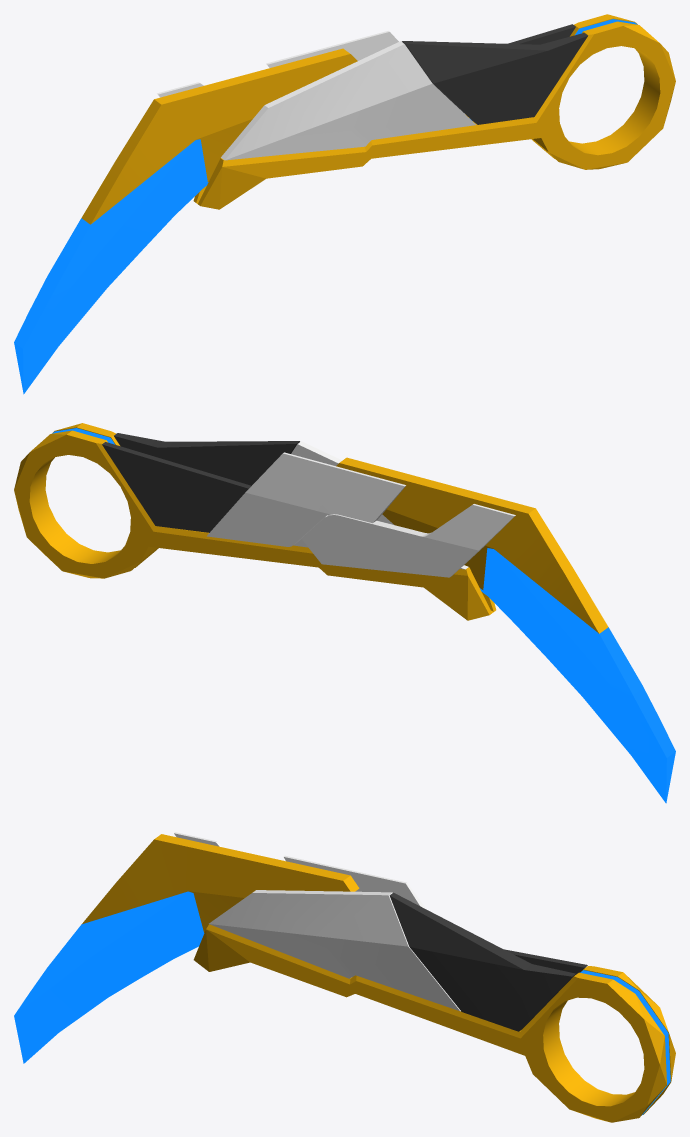
Rendered from Kerambit-Prime2.fbx.
The picture shows the model from 3 angles, top to bottom: view 1: azimuth 30°, elevation 25°; view 2: azimuth 150°, elevation 25°; view 3: azimuth 330°, elevation 25°; orthographic projection.
Visible parts, largest first — view 1: knife; view 2: knife; view 3: knife.
Boxes of the visible parts, bbox=[...] form: knife: bbox=[14, 14, 675, 394]; knife: bbox=[14, 423, 675, 803]; knife: bbox=[14, 832, 675, 1122].
Size of the model in its own units: 4.81 by 72.77 by 28.43.
